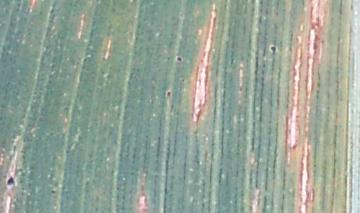tarspot: (4, 172, 18, 190), (267, 42, 281, 55), (163, 88, 173, 99), (174, 54, 184, 64), (50, 188, 58, 196)
